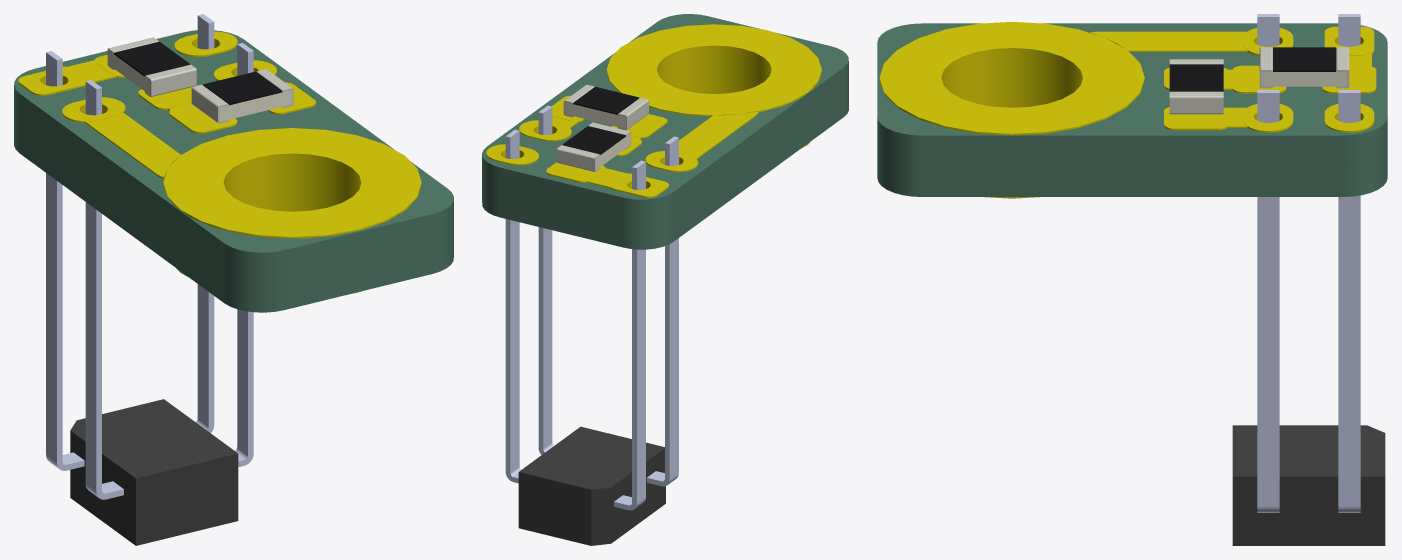
File: QRE-Board_BackSen.glb
3 views of the same model, side by side, from view 1: azimuth 30°, elevation 25°; view 2: azimuth 150°, elevation 25°; view 3: azimuth 270°, elevation 25° (orthographic). The views are drawn at different scales.
Visible parts, largest first — view 1: =>[0:1:1:5], U1, =>[0:1:1:4], R2, R1; view 2: U1, =>[0:1:1:5], =>[0:1:1:4], R2, R1; view 3: =>[0:1:1:5], =>[0:1:1:4], U1, R1, R2.
Part boxes in pixels (box(x1,y1,x2,y2)): =>[0:1:1:5]: box(14, 30, 453, 312); U1: box(46, 14, 253, 545); =>[0:1:1:4]: box(18, 31, 421, 293); R2: box(191, 69, 293, 123); R1: box(107, 37, 196, 96); U1: box(505, 105, 678, 545); =>[0:1:1:5]: box(482, 14, 848, 249); =>[0:1:1:4]: box(486, 24, 821, 197); R2: box(563, 84, 648, 130); R1: box(557, 122, 631, 172); =>[0:1:1:5]: box(877, 23, 1387, 196); =>[0:1:1:4]: box(879, 22, 1376, 198); U1: box(1232, 14, 1385, 545); R1: box(1259, 47, 1349, 88); R2: box(1169, 59, 1223, 114).
Size of the model in its own units: 0.0059 by 0.0115 by 0.0114.
